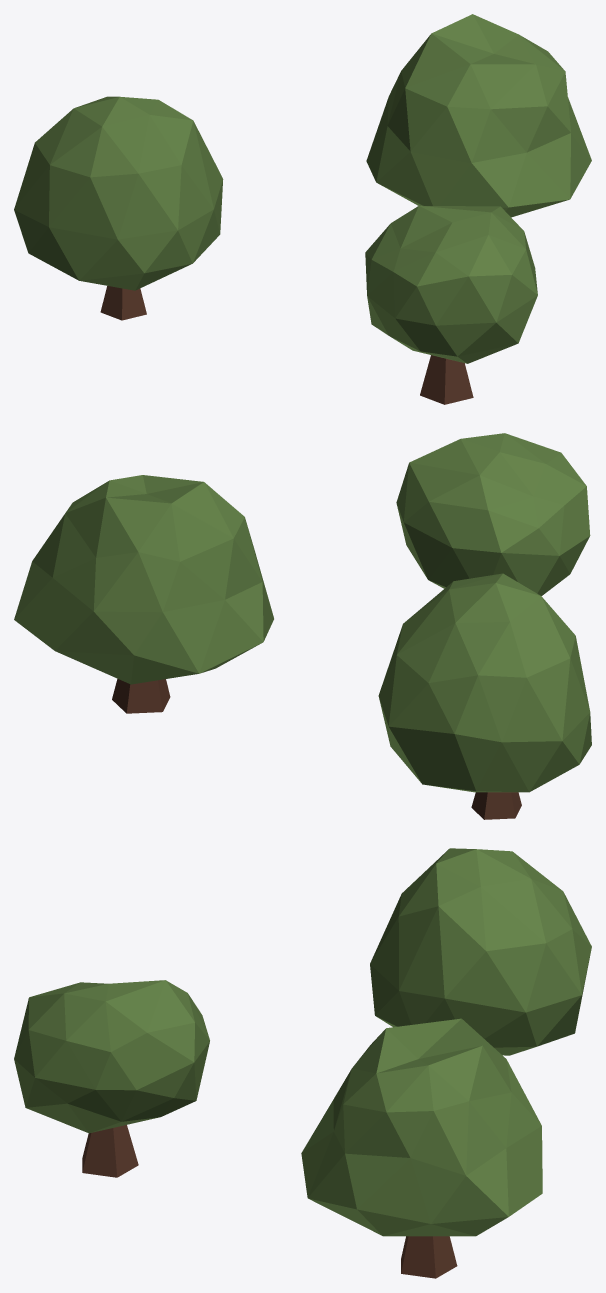
Rendered from PlantS-1.fbx.
The picture shows the model from 3 angles, top to bottom: view 1: azimuth 30°, elevation 25°; view 2: azimuth 150°, elevation 25°; view 3: azimuth 270°, elevation 25°; orthographic projection. The views are drawn at different scales.
Visible parts, largest first — view 1: PlantL-1; view 2: PlantL-1; view 3: PlantL-1.
Part boxes in pixels (x1,y1,x2,y2): PlantL-1: [14, 14, 591, 404]; PlantL-1: [14, 433, 591, 819]; PlantL-1: [14, 848, 591, 1278].
Size of the model in its own units: 210 by 82 by 186.
